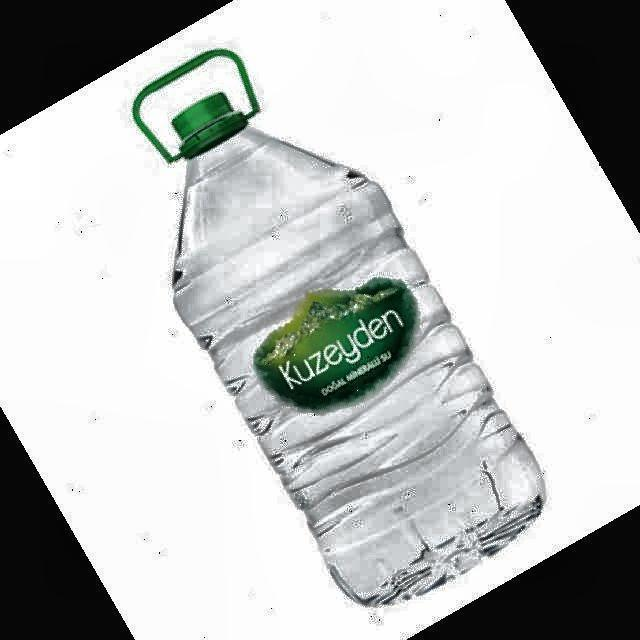plastic: (135, 51, 544, 605)
